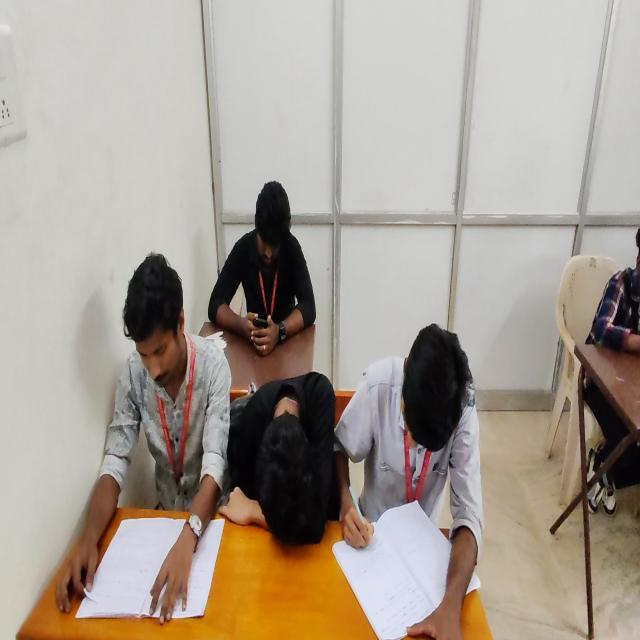reading: (56, 253, 235, 626), (343, 324, 478, 640)
sleeping: (222, 367, 336, 544)
using_mobile: (207, 180, 318, 356), (580, 213, 639, 516)
